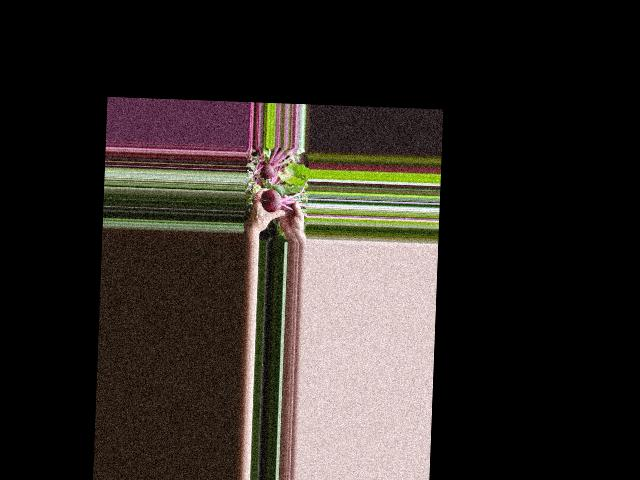beet: (260, 176, 308, 214)
